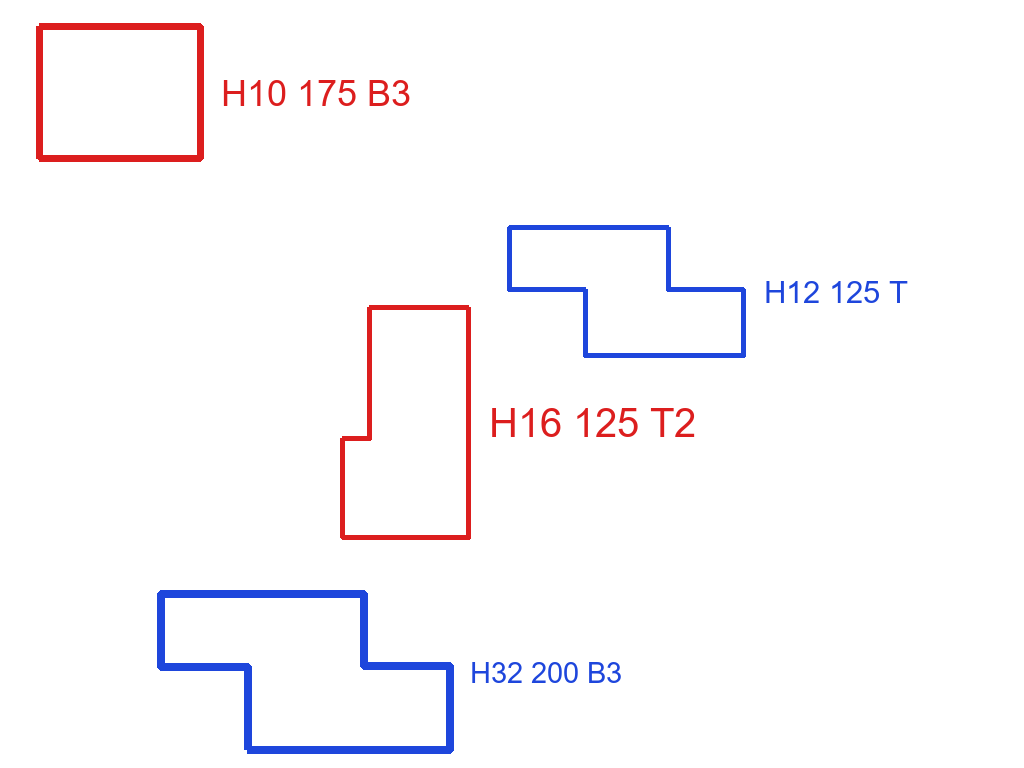shape: (155, 589, 456, 755), (505, 223, 748, 360), (338, 303, 473, 542), (34, 21, 206, 164)
text: (487, 406, 698, 439), (219, 78, 413, 108), (468, 660, 624, 685), (762, 279, 910, 305)
